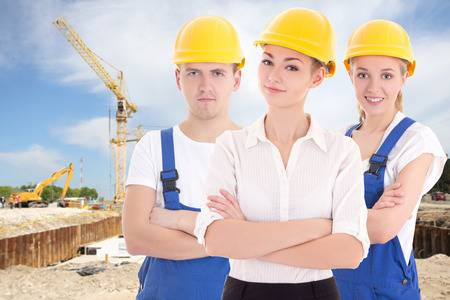casco: (252, 6, 337, 79), (340, 18, 417, 81), (171, 14, 246, 71)
